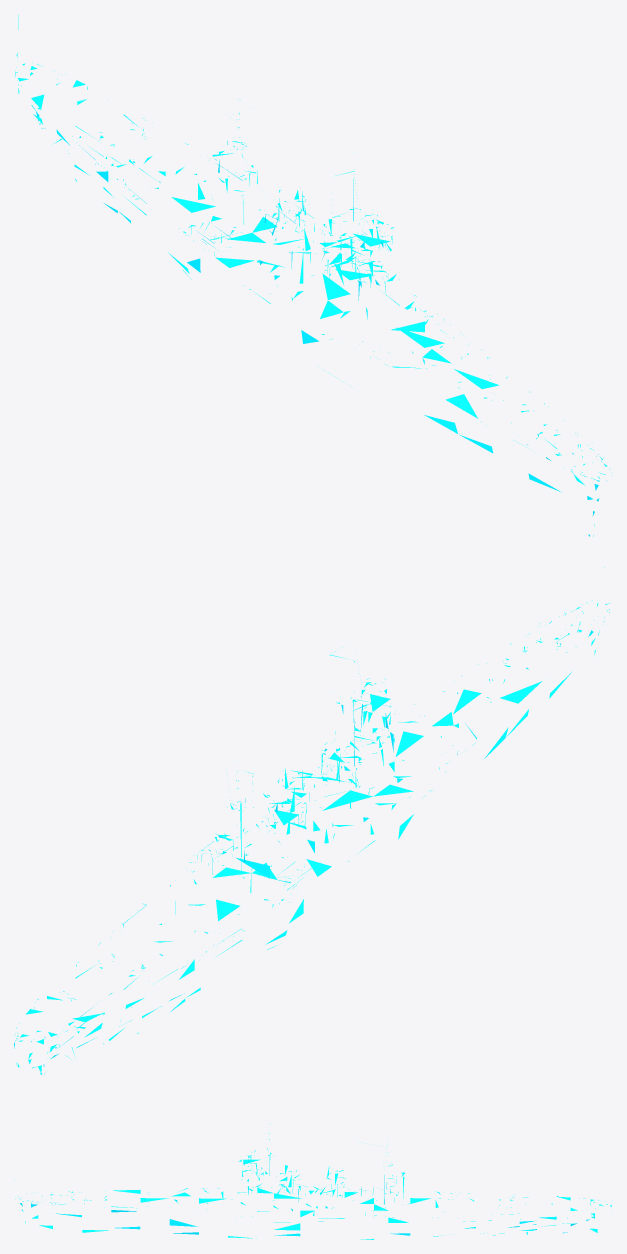
The model's file is Brindisi.glb.
The picture shows the model from 3 angles, top to bottom: view 1: azimuth 30°, elevation 25°; view 2: azimuth 150°, elevation 25°; view 3: azimuth 270°, elevation 25°; orthographic projection. The views are drawn at different scales.
Size of the model in its own units: 1.62 by 3.21 by 15.33.
